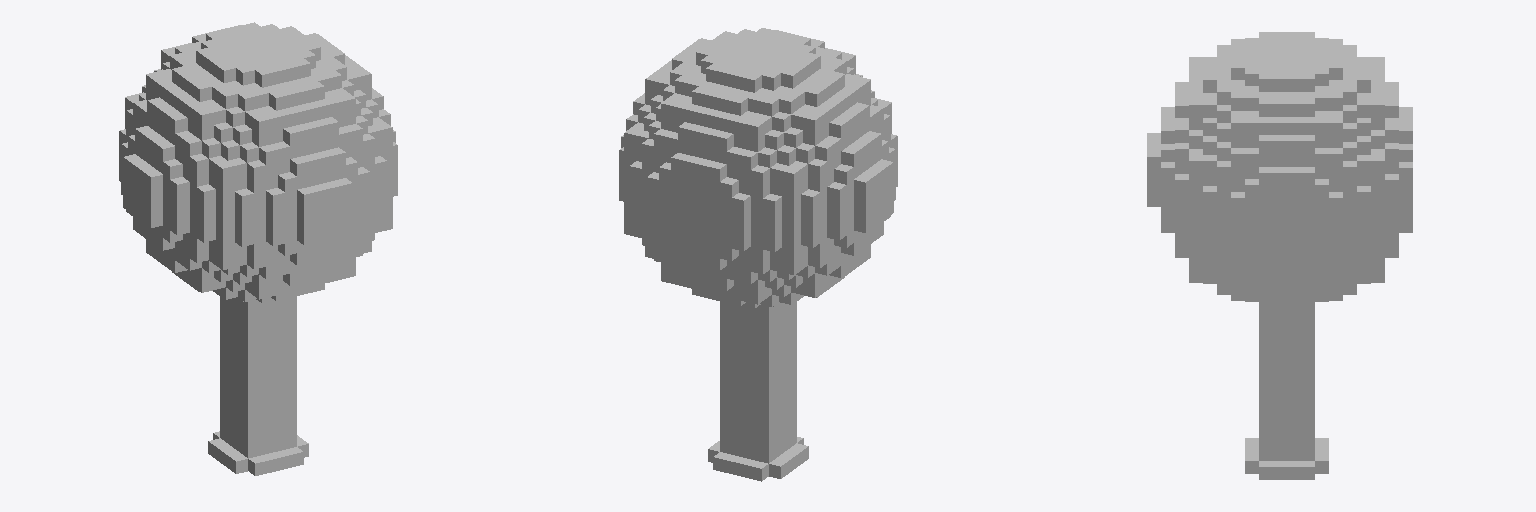
File: arvore_bola.obj
3 renders of one model, left to right at view 1: azimuth 30°, elevation 25°; view 2: azimuth 150°, elevation 25°; view 3: azimuth 270°, elevation 25°, orthographic.
Parts seen in each view (by area): view 1: arvore_bola; view 2: arvore_bola; view 3: arvore_bola.
Boxes of the visible parts, <box> form: arvore_bola: <box>119,22,397,475</box>; arvore_bola: <box>619,28,897,481</box>; arvore_bola: <box>1147,32,1412,479</box>.
Bounding box in the file's own units: 19 × 32 × 19.